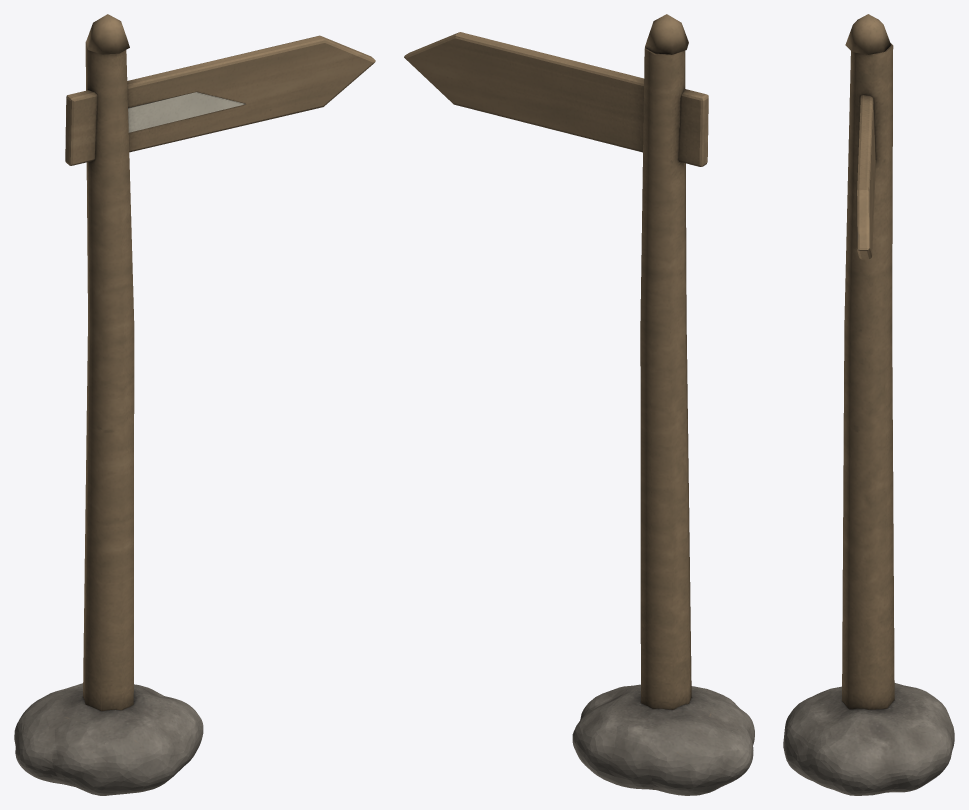
The model's file is costa_placa_seta_a.glb.
The picture shows the model from 3 angles, left to right: view 1: azimuth 30°, elevation 25°; view 2: azimuth 150°, elevation 25°; view 3: azimuth 270°, elevation 25°; orthographic projection.
Visible parts, largest first — view 1: costa_placa_seta_a_tronco; view 2: costa_placa_seta_a_tronco; view 3: costa_placa_seta_a_tronco.
Boxes of the visible parts, x1,y1,x2,y2 form: costa_placa_seta_a_tronco: [14, 14, 375, 795]; costa_placa_seta_a_tronco: [404, 14, 754, 795]; costa_placa_seta_a_tronco: [783, 14, 954, 795].
Bounding box in the file's own units: 1.05 × 2.2 × 0.4479.
Materials: 1 (1 with a texture image).
